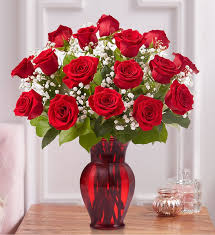lale: (45, 86, 92, 136), (6, 87, 48, 132), (90, 79, 127, 123), (128, 91, 165, 133), (56, 53, 100, 86), (108, 54, 146, 90), (66, 20, 107, 53), (146, 49, 179, 87), (166, 82, 198, 119), (86, 8, 122, 40), (108, 25, 146, 55), (173, 49, 205, 84), (8, 53, 41, 81), (143, 24, 173, 54), (30, 46, 61, 73), (43, 20, 73, 45)
